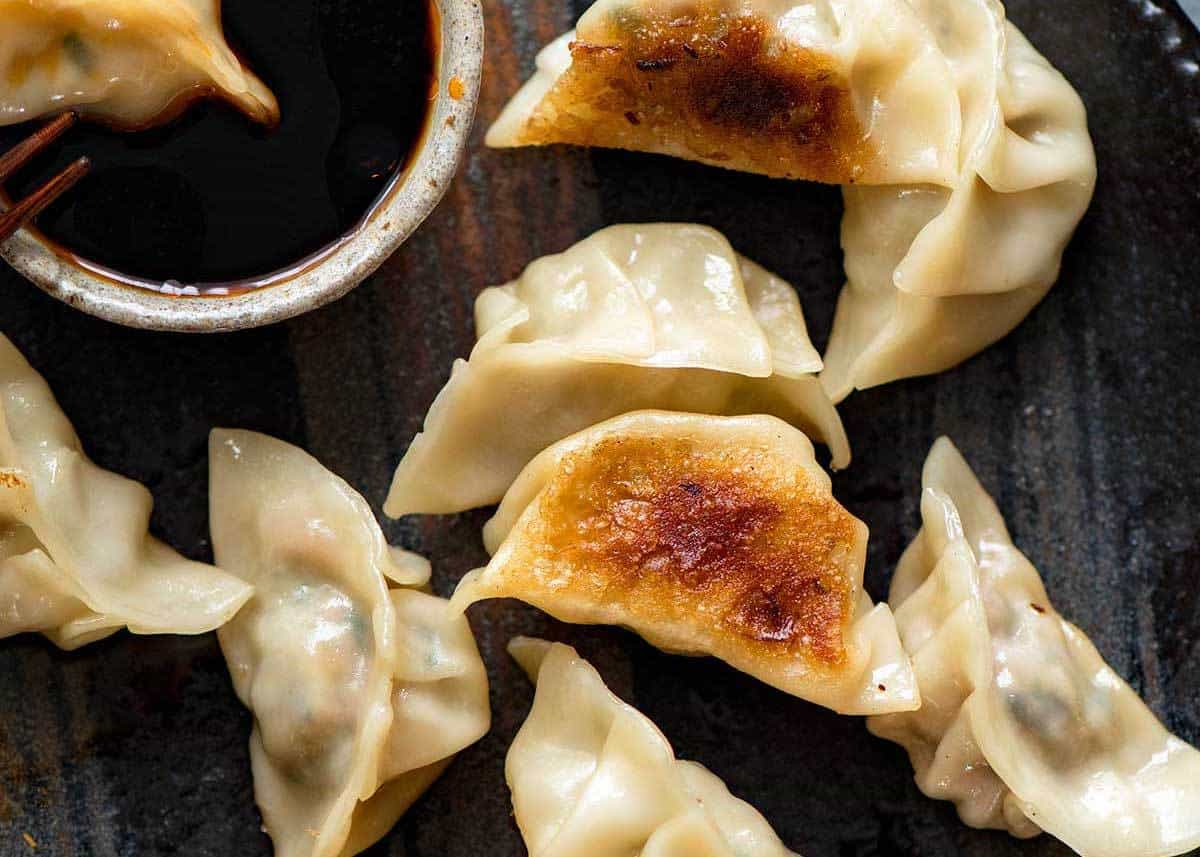fried_dumplings: (469, 399, 910, 714), (880, 434, 1200, 857), (377, 218, 840, 507), (200, 429, 480, 857), (816, 1, 1103, 396), (500, 1, 977, 177), (1, 329, 244, 661), (502, 637, 794, 857), (8, 1, 270, 119)
